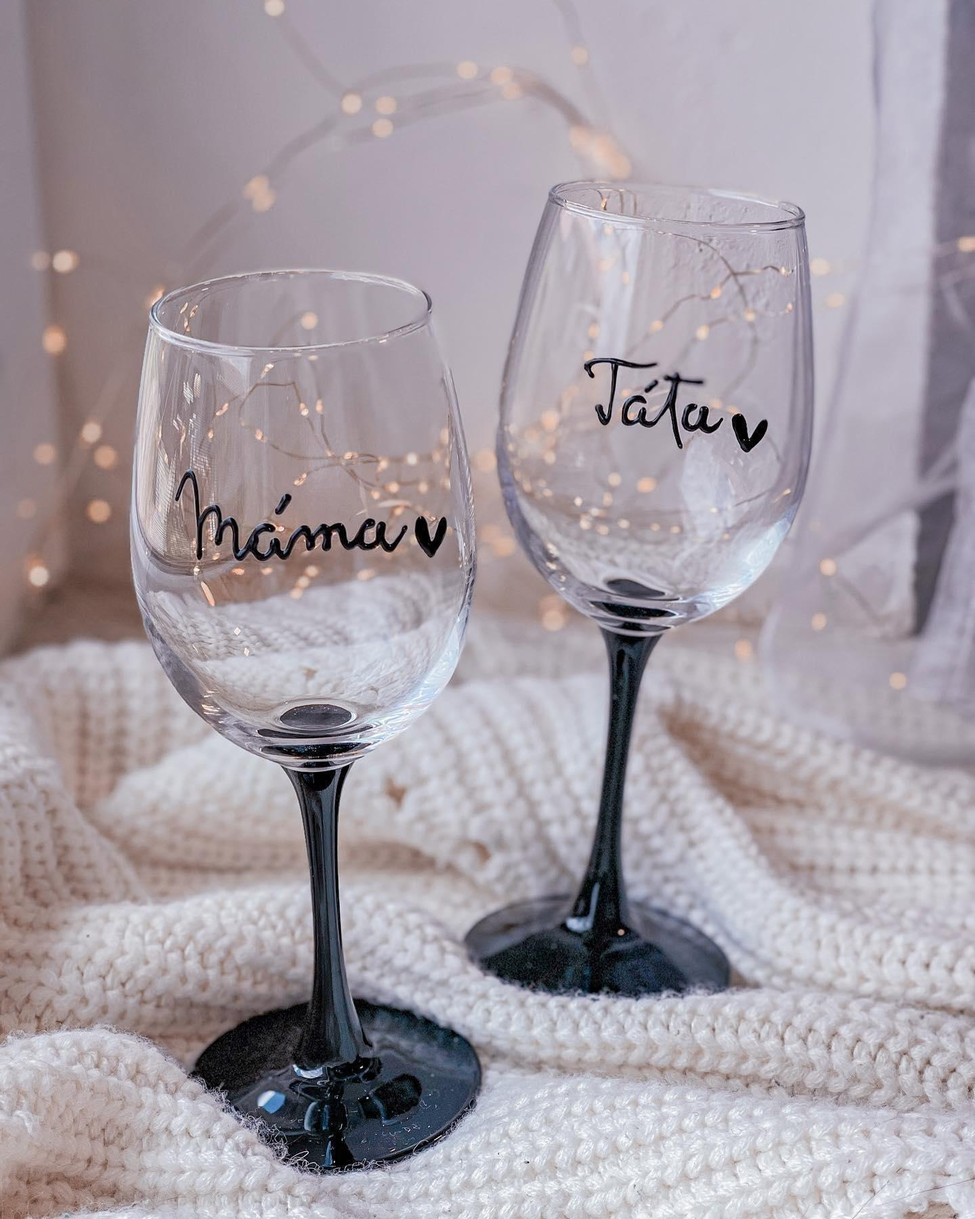glass-wine: (105, 258, 504, 1178), (456, 163, 850, 1006)
